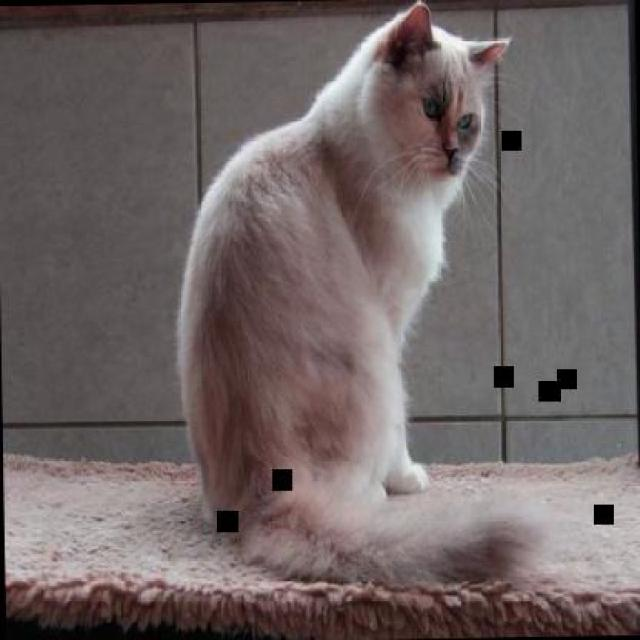cat: (169, 0, 562, 597)
